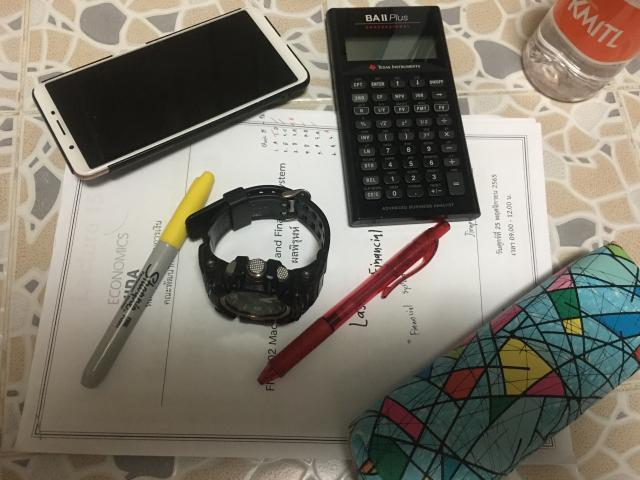Mobile phone: (32, 9, 309, 180)
Pen: (258, 221, 450, 384), (81, 171, 214, 389)
Watch: (185, 185, 330, 325)
bottle: (522, 0, 640, 102)
paper: (13, 98, 578, 465)
